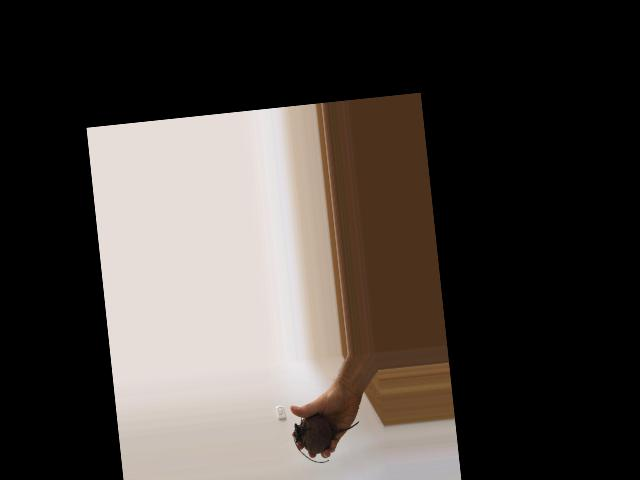beet: (290, 411, 363, 466)
